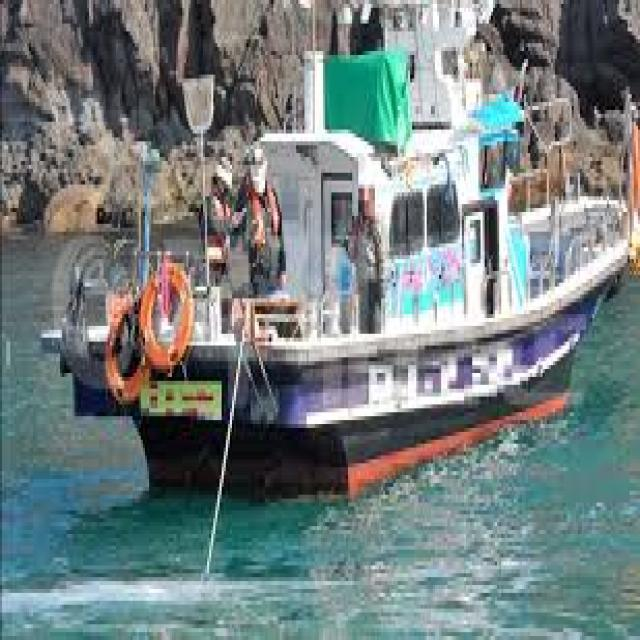Ship: (117, 29, 640, 528)
